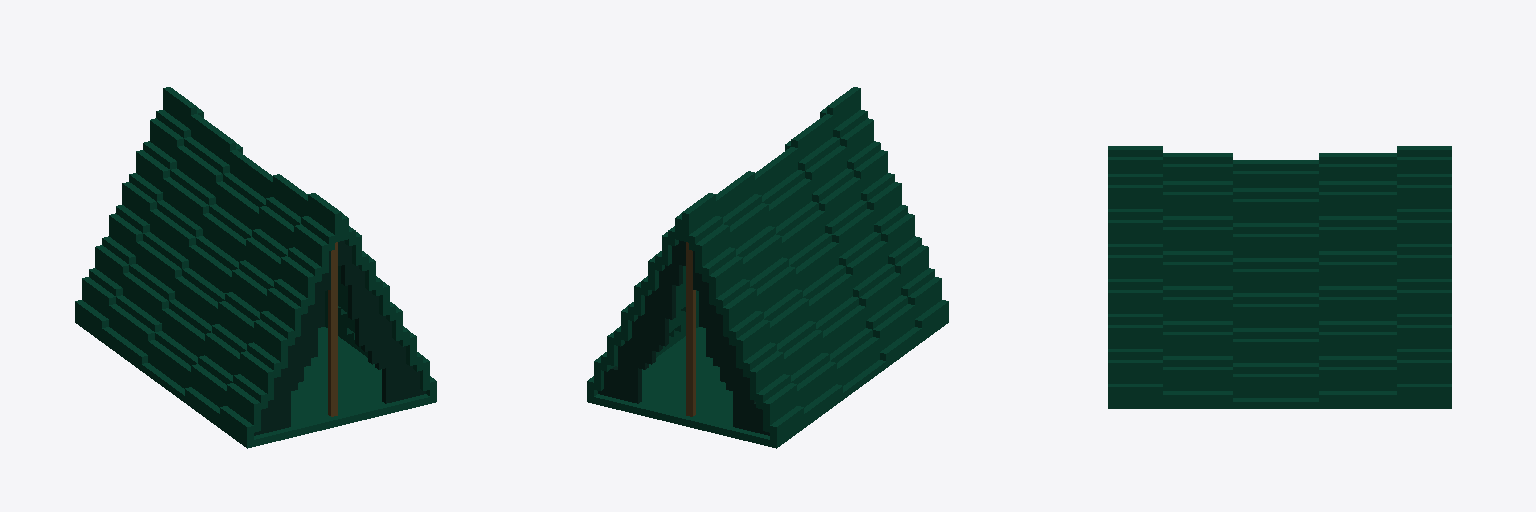
3 renders of one model, left to right at view 1: azimuth 30°, elevation 25°; view 2: azimuth 150°, elevation 25°; view 3: azimuth 270°, elevation 25°, orthographic.
Visible parts, largest first — view 1: Tent-1; view 2: Tent-1; view 3: Tent-1.
Part boxes in pixels (left/top/right/bottom): Tent-1: left=75, top=87, right=436, bottom=448; Tent-1: left=587, top=87, right=948, bottom=448; Tent-1: left=1108, top=146, right=1451, bottom=408.
Bounding box in the file's own units: 28 × 30 × 44.
Materials: 1 (1 with a texture image).